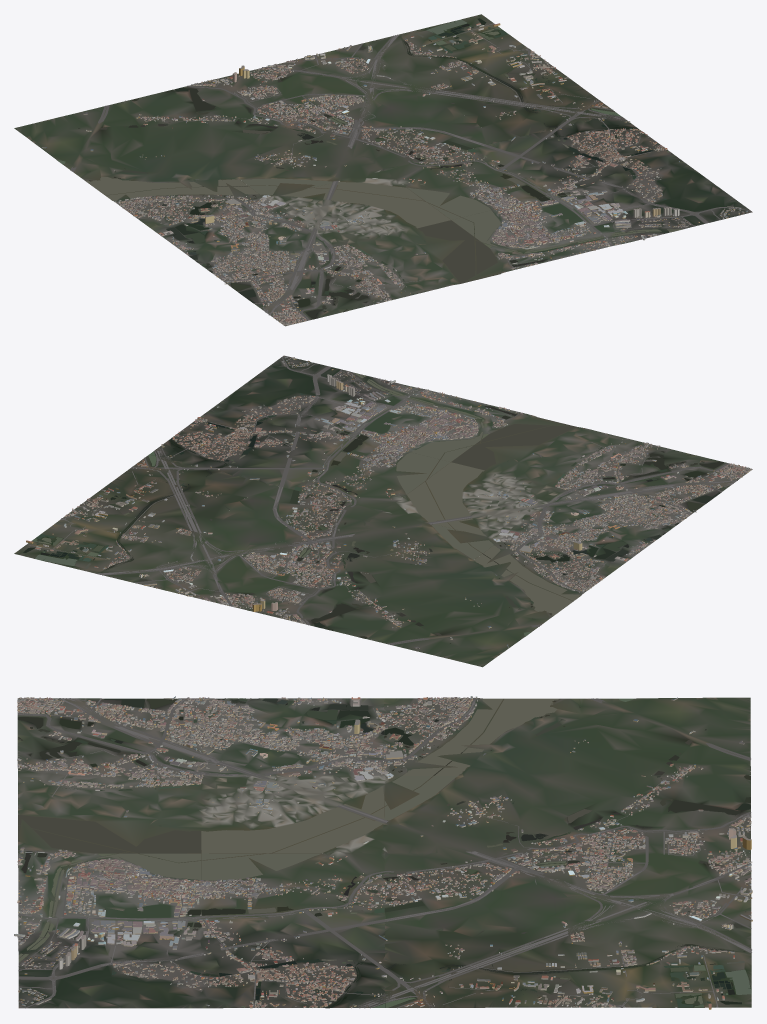
3 views of the same model, one above another, from view 1: azimuth 30°, elevation 25°; view 2: azimuth 150°, elevation 25°; view 3: azimuth 270°, elevation 25° (orthographic). The views are drawn at different scales.
Visible parts, largest first — view 1: ground, buildings, water, roads; view 2: ground, buildings, water, roads; view 3: ground, buildings, water, roads.
Boxes of the visible parts, <box> form: ground: <box>14,14,752,326</box>; buildings: <box>42,23,747,325</box>; water: <box>57,18,710,319</box>; roads: <box>70,23,750,320</box>; ground: <box>14,355,752,667</box>; buildings: <box>26,357,751,648</box>; water: <box>23,369,724,643</box>; roads: <box>26,357,737,645</box>; ground: <box>17,697,751,1008</box>; buildings: <box>14,696,752,1009</box>; water: <box>18,698,751,1007</box>; roads: <box>17,697,751,1008</box>.
Size of the model in its own units: 5653 by 97.31 by 5653.
